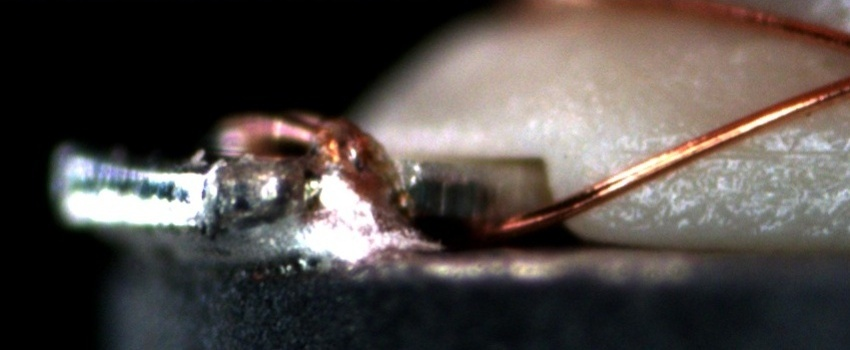DL: (620, 121, 849, 185)
TE: (214, 98, 386, 155)
